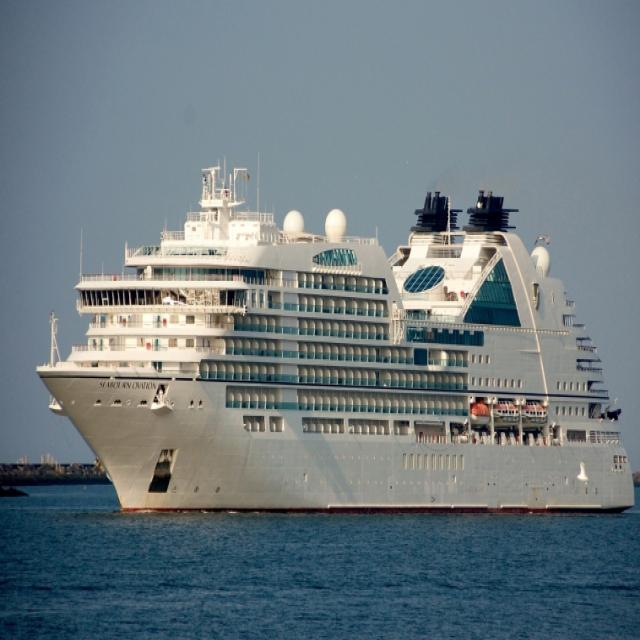cruises: (33, 152, 640, 524)
